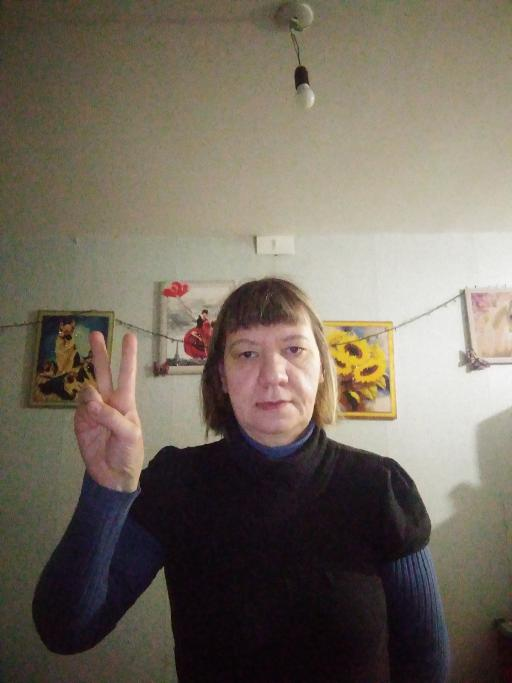peace: (68, 328, 153, 492)
